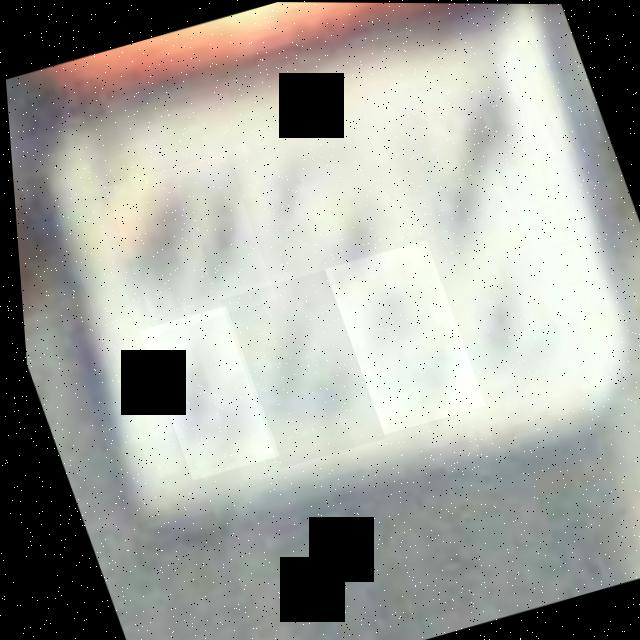4: (132, 305, 274, 480), (433, 235, 575, 404)
E: (213, 268, 380, 468), (318, 238, 481, 434)
N: (99, 152, 274, 333)
